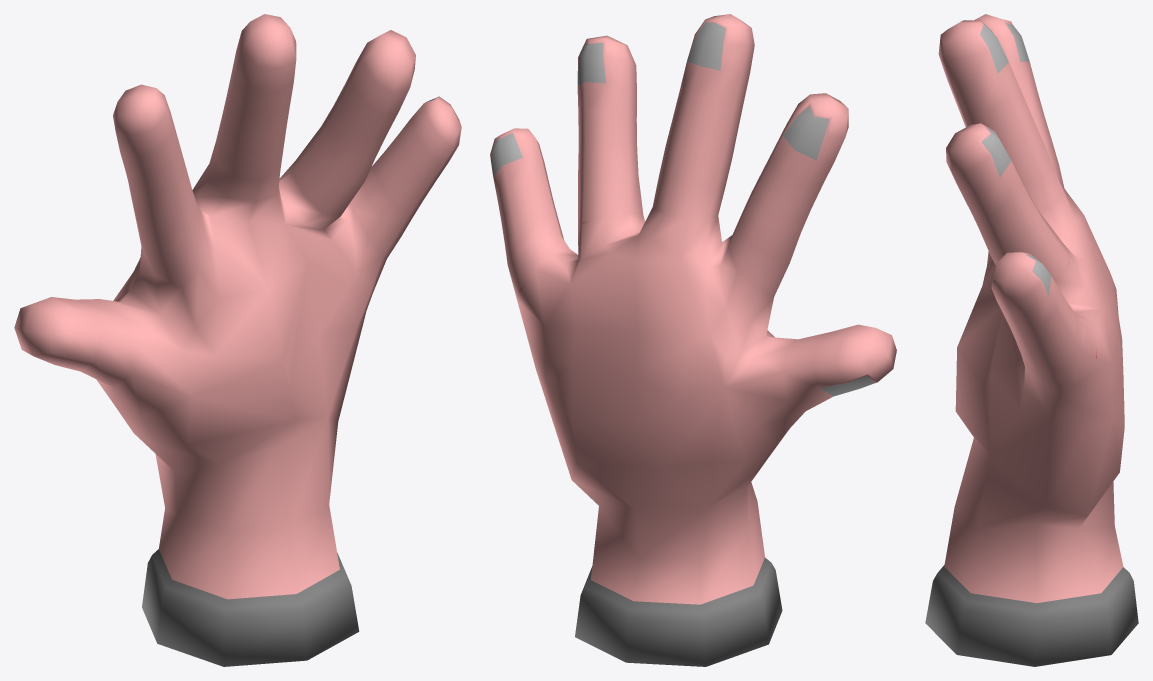
File: Hand.fbx
3 views of the same model, side by side, from view 1: azimuth 30°, elevation 25°; view 2: azimuth 150°, elevation 25°; view 3: azimuth 270°, elevation 25° (orthographic). The views are drawn at different scales.
Visible parts, largest first — view 1: Hand; view 2: Hand; view 3: Hand.
Boxes of the visible parts, left/top/right/bottom form: Hand: left=14, top=14, right=461, bottom=666; Hand: left=490, top=14, right=896, bottom=666; Hand: left=925, top=14, right=1138, bottom=666.
Size of the model in its own units: 3.11 by 4.37 by 1.42.
